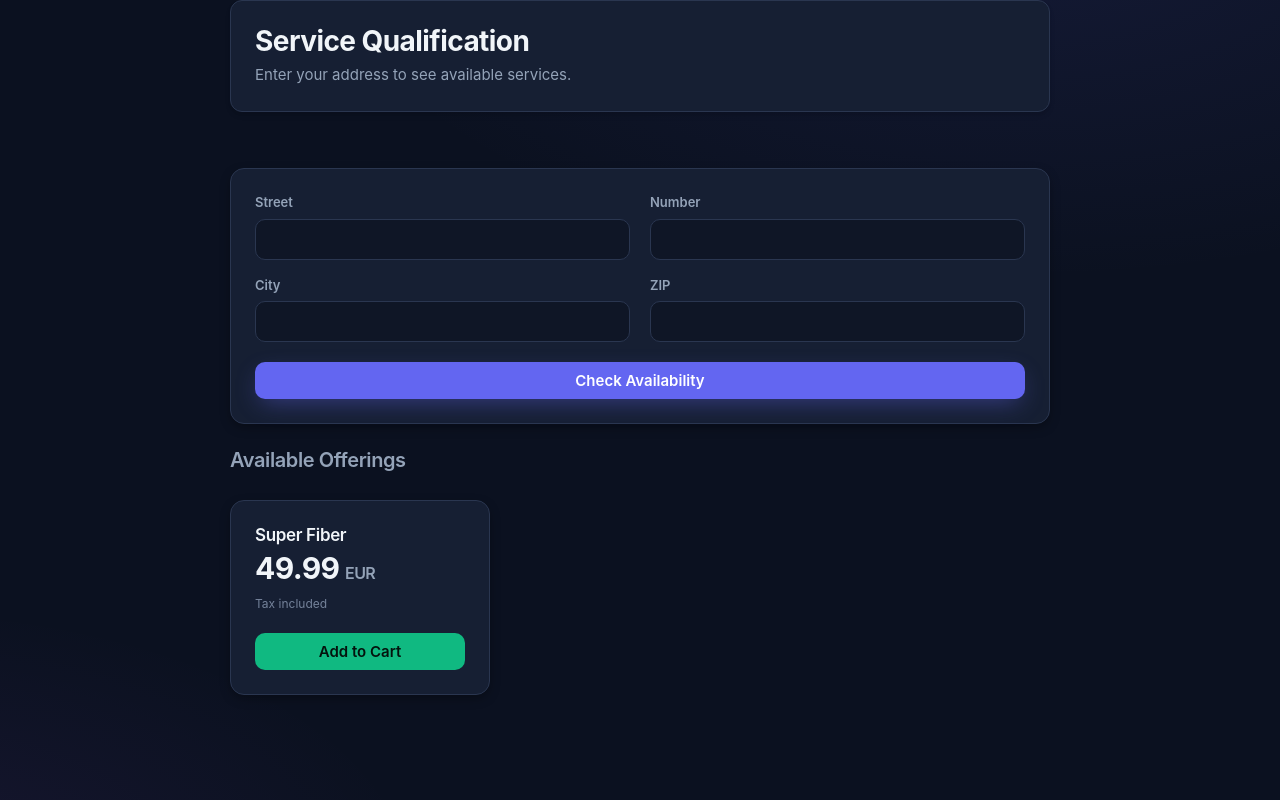
QualifyPage › shows generic error toast for non-422 errors
The width and height of the screenshot is (1280, 800).
Click the button "Add to Cart".
click(360, 651)  # box [255,633,465,670]
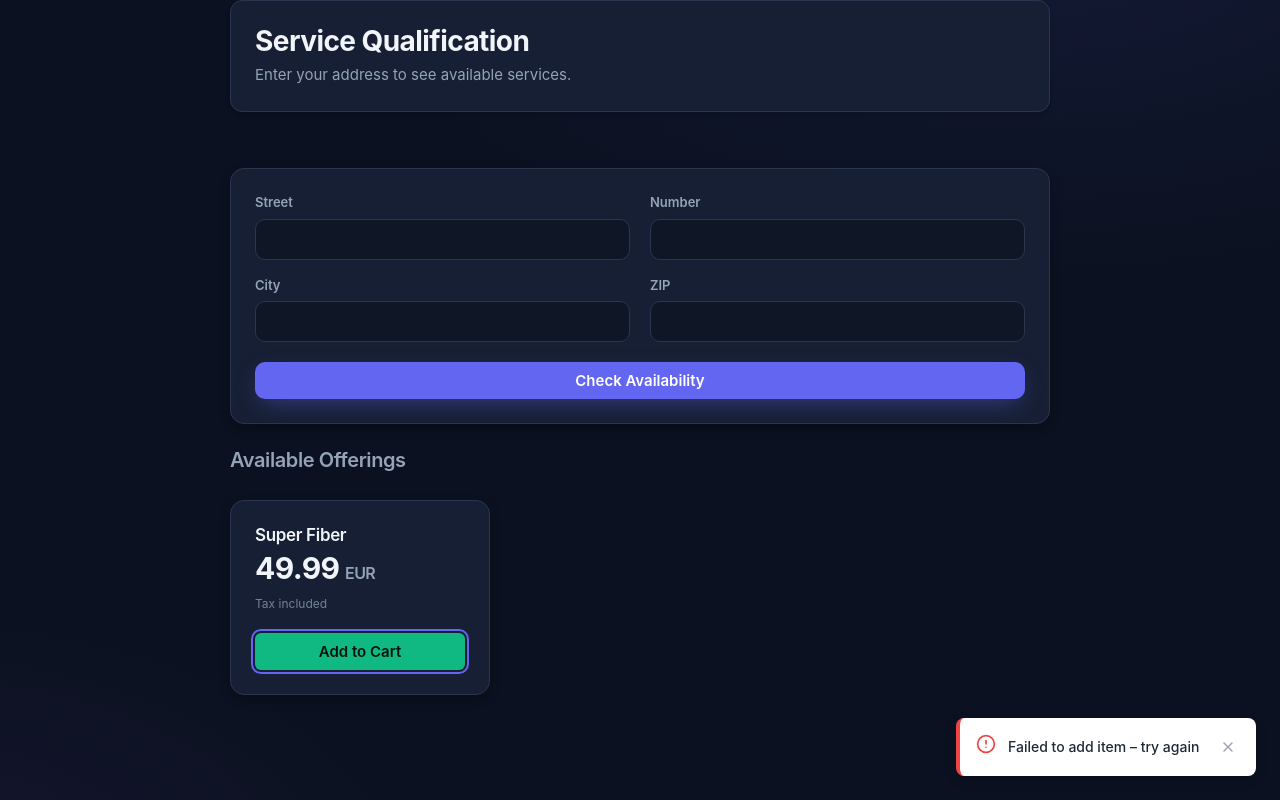
Check: the message reads "Failed to add item – try again", box [1008,738,1199,755]
